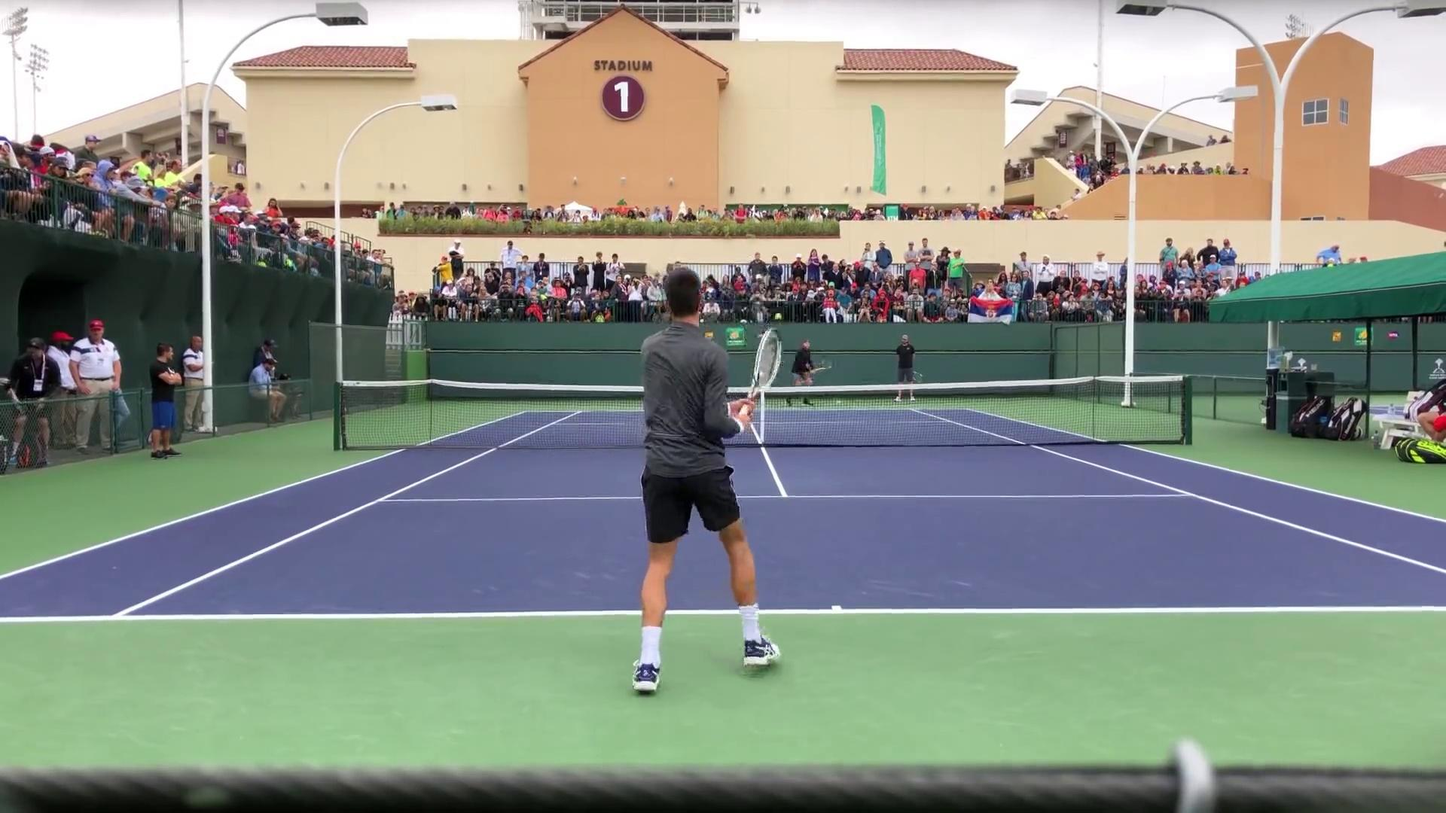ball: (833, 399, 844, 406)
